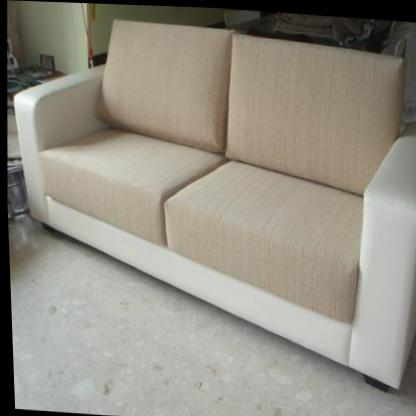Sofa: (0, 9, 416, 392)
